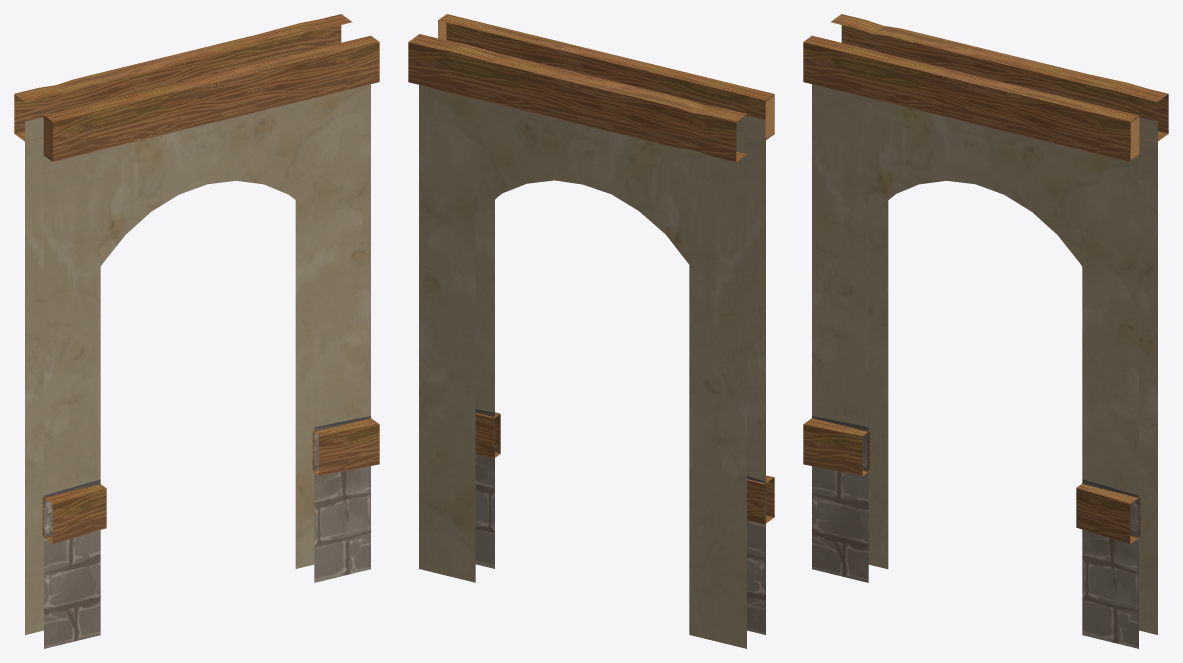
File: Wall_Plaster_Door_Round.gltf
The picture shows the model from 3 angles, left to right: view 1: azimuth 30°, elevation 25°; view 2: azimuth 150°, elevation 25°; view 3: azimuth 330°, elevation 25°; orthographic projection.
Parts seen in each view (by area): view 1: Wall_Plaster_Door_Round; view 2: Wall_Plaster_Door_Round; view 3: Wall_Plaster_Door_Round.
Part boxes in pixels (x1,y1,x2,y2): Wall_Plaster_Door_Round: [14, 14, 379, 648]; Wall_Plaster_Door_Round: [408, 14, 774, 648]; Wall_Plaster_Door_Round: [803, 14, 1168, 648].
Size of the model in its own units: 2 by 3.12 by 0.4065.
Materials: 3 (3 with a texture image).
